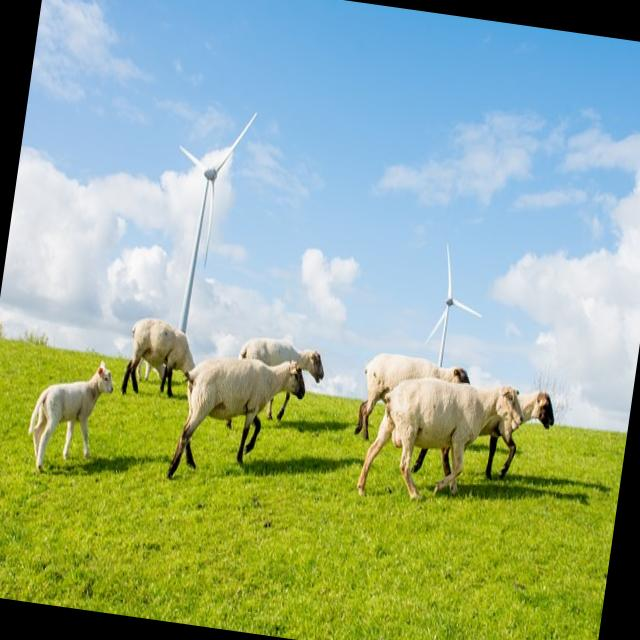animal: (354, 362, 526, 514), (166, 352, 306, 492), (22, 354, 121, 482), (232, 338, 326, 422), (124, 314, 198, 396)
